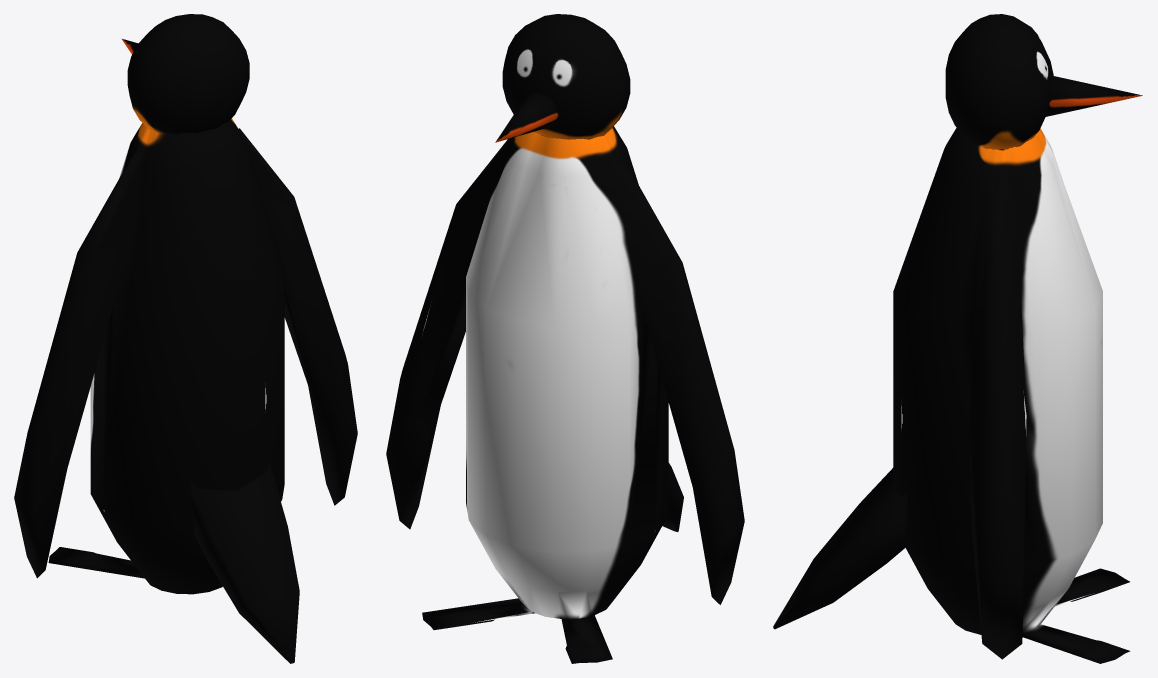
The model's file is penguin.fbx.
3 views of the same model, side by side, from view 1: azimuth 30°, elevation 25°; view 2: azimuth 150°, elevation 25°; view 3: azimuth 270°, elevation 25° (orthographic). The views are drawn at different scales.
Parts seen in each view (by area): view 1: Sphere; view 2: Sphere; view 3: Sphere.
Part boxes in pixels (<box>): Sphere: <box>14,14,357,663</box>; Sphere: <box>386,14,744,663</box>; Sphere: <box>773,14,1142,663</box>.
Size of the model in its own units: 198 by 328 by 181.
